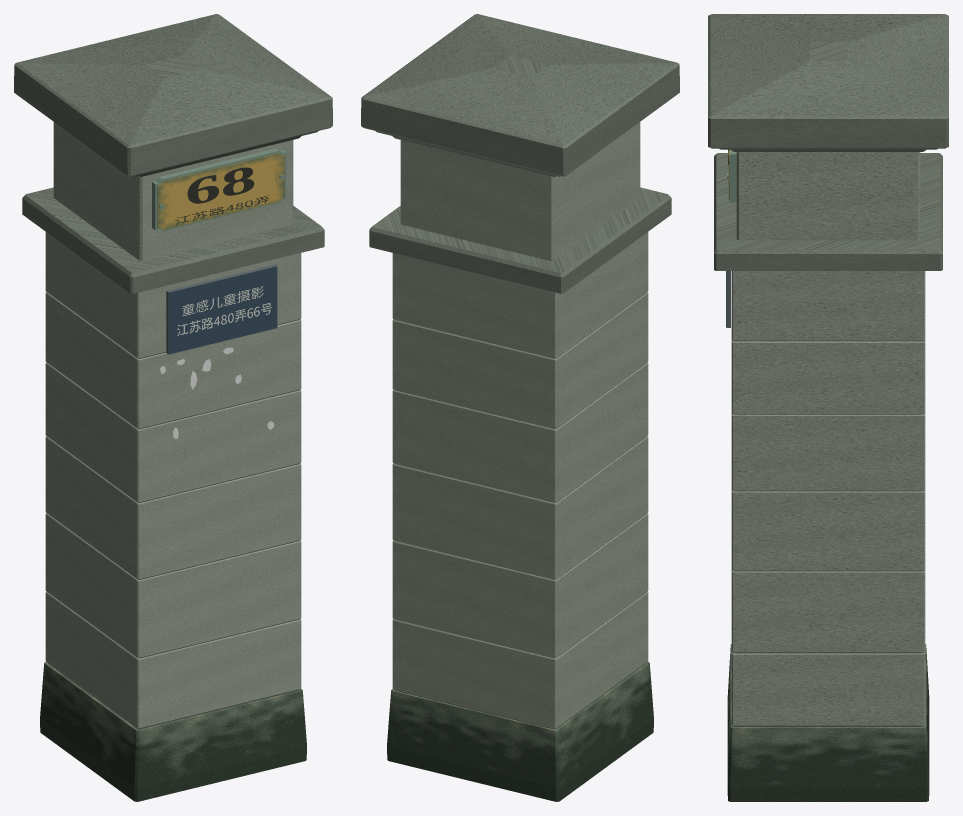
File: yuecun-pier-far.glb
3 renders of one model, left to right at view 1: azimuth 30°, elevation 25°; view 2: azimuth 150°, elevation 25°; view 3: azimuth 270°, elevation 25°, orthographic. The views are drawn at different scales.
Parts seen in each view (by area): view 1: 月村江苏路480弄双号牌门柱; view 2: 月村江苏路480弄双号牌门柱; view 3: 月村江苏路480弄双号牌门柱.
Part boxes in pixels (<box>): 月村江苏路480弄双号牌门柱: <box>14,14,332,801</box>; 月村江苏路480弄双号牌门柱: <box>361,14,679,801</box>; 月村江苏路480弄双号牌门柱: <box>708,14,948,801</box>.
Size of the model in its own units: 0.816 by 2.58 by 0.797.
10 materials, 5 textured.
